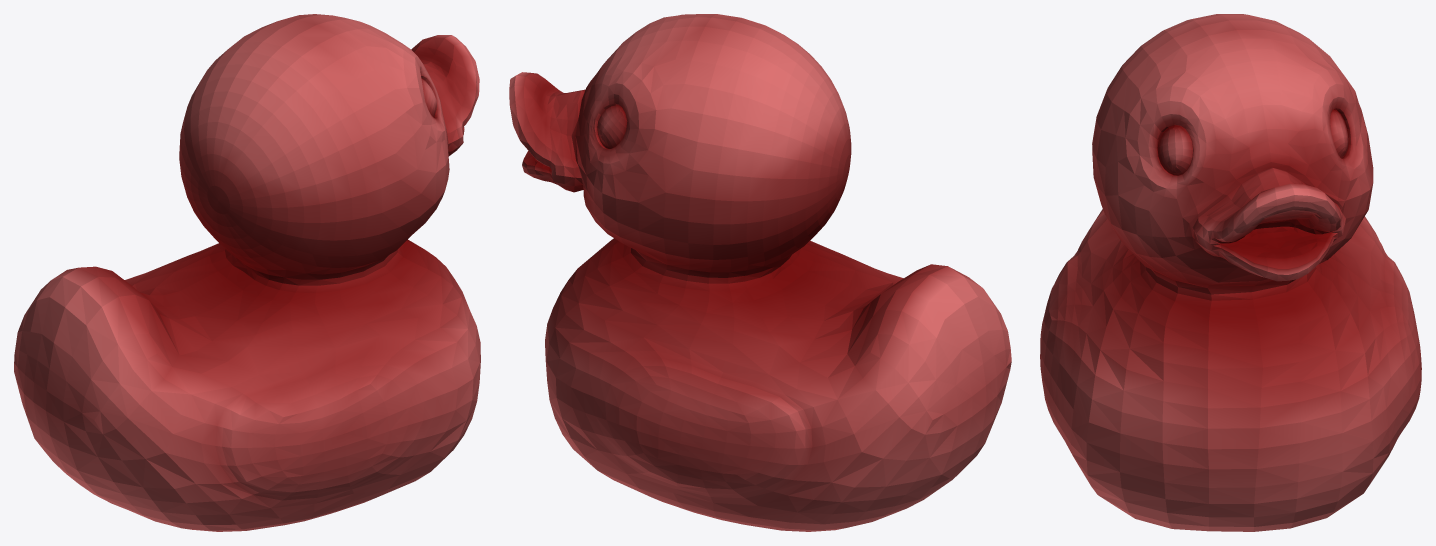
Rendered from duck4KC.obj.
3 renders of one model, left to right at view 1: azimuth 30°, elevation 25°; view 2: azimuth 150°, elevation 25°; view 3: azimuth 270°, elevation 25°, orthographic. The views are drawn at different scales.
Bounding box in the file's own units: 2232 × 2078 × 1554.
